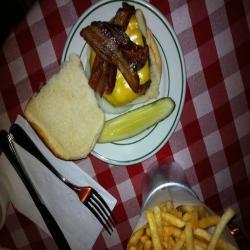burger: (22, 12, 176, 163)
fries: (124, 201, 245, 250)
